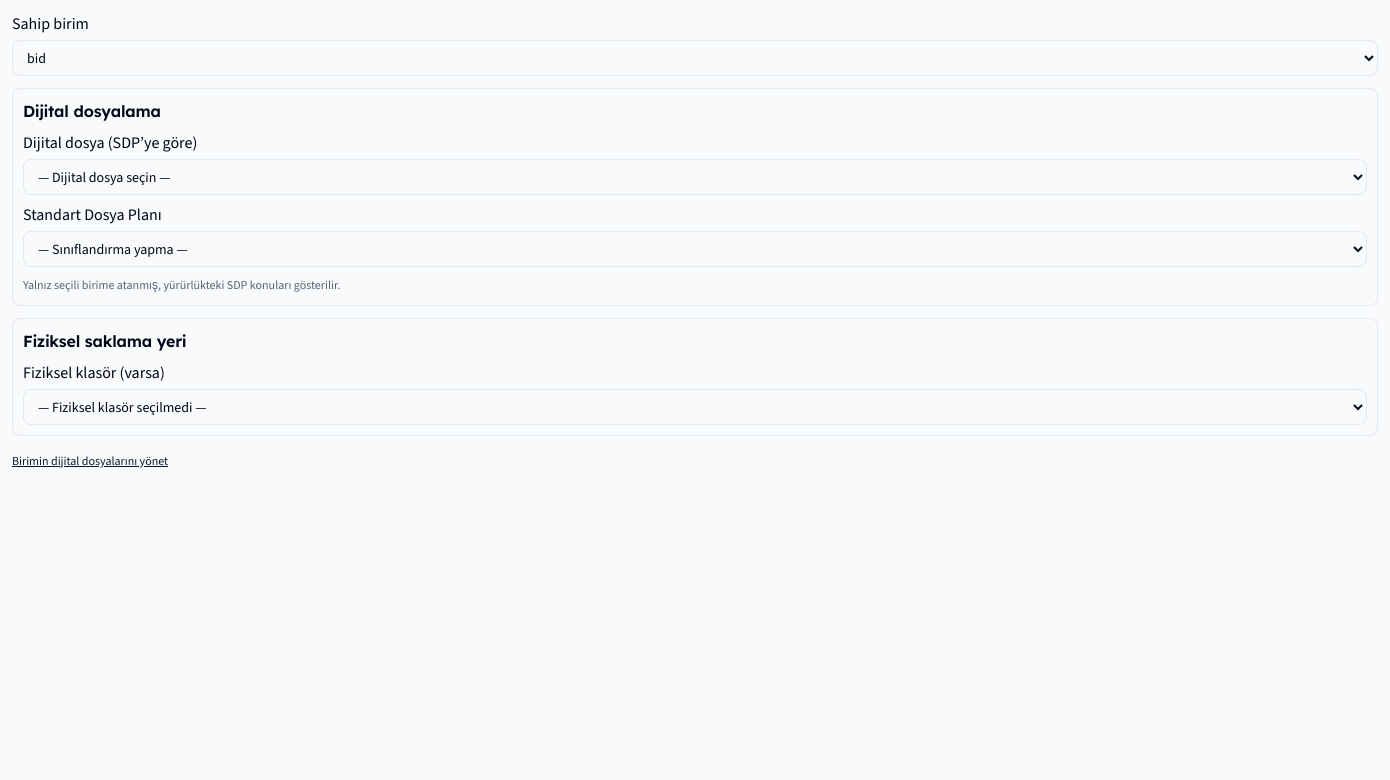
fiziksel klasörün konumunu dijital dosyalamadan ayrı gösterir
Select "physical-bid · physical-bid · D02-R03" in the dropdown labelled "Fiziksel klasör (varsa)": x=695, y=407 top-left (23, 389), bottom-right (1367, 425)
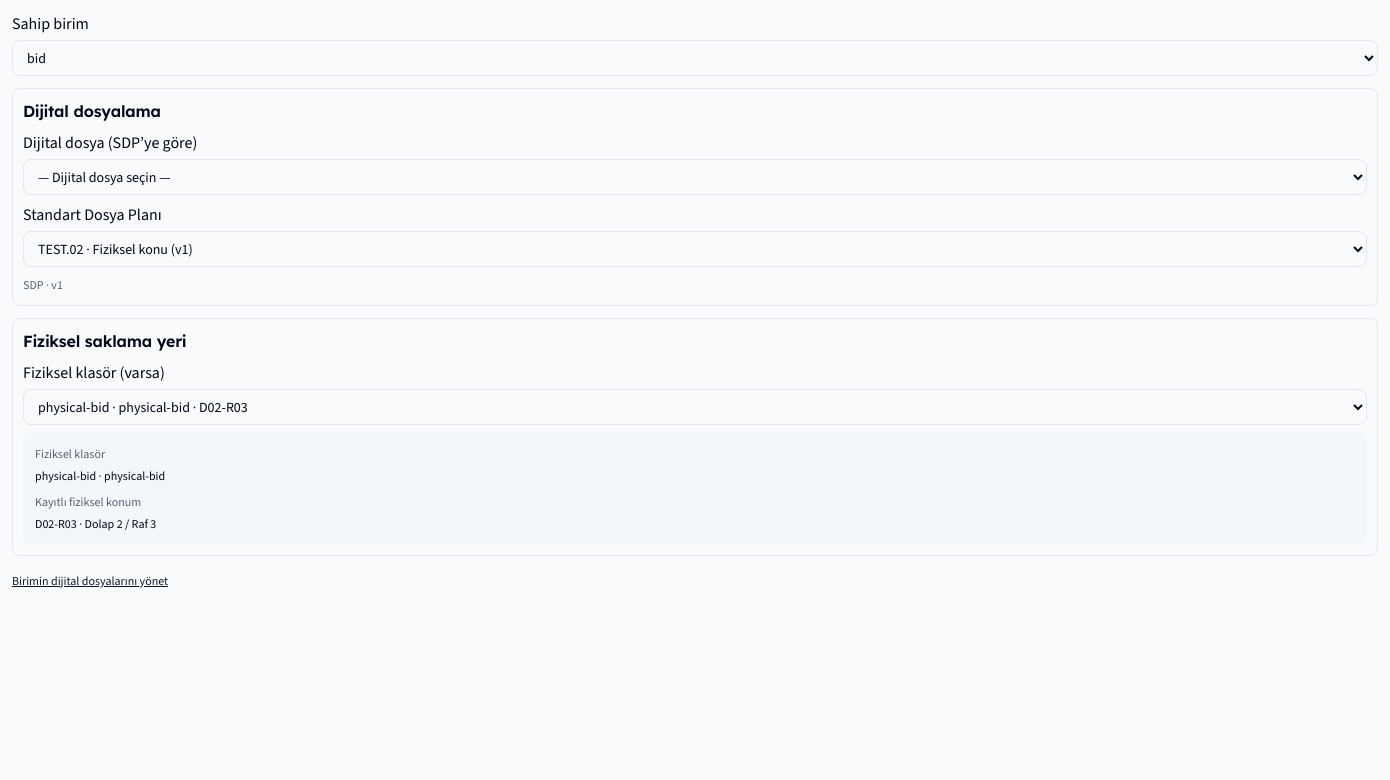
Expected: the dropdown labelled "Dijital dosya (SDP’ye göre)" shows "— Dijital dosya seçin —", top-left (23, 159), bottom-right (1367, 195)
Now the text "D02-R03 · Dolap 2 / Raf 3" is shown, box top-left (35, 516), bottom-right (156, 532)
